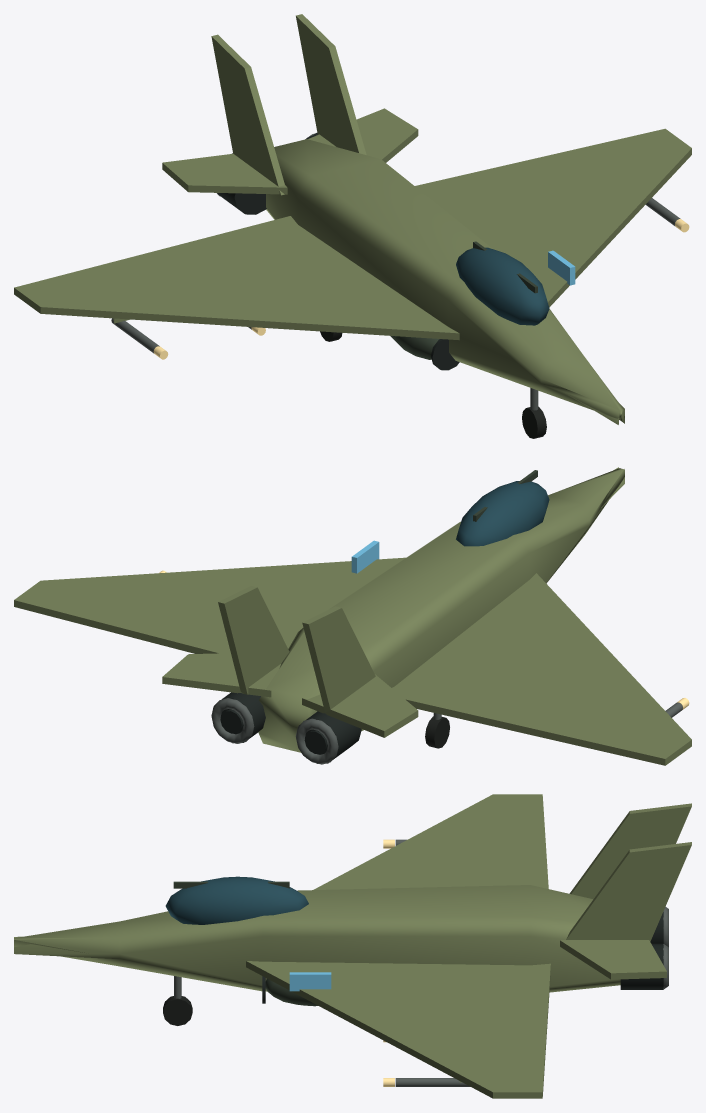
The model's file is attackAircraft.glb.
3 views of the same model, one above another, from view 1: azimuth 30°, elevation 25°; view 2: azimuth 150°, elevation 25°; view 3: azimuth 270°, elevation 25° (orthographic). The views are drawn at different scales.
Visible parts, largest first — view 1: armor, glass, dark, trim, steel, rubber; view 2: armor, glass, dark, steel, rubber, marking; view 3: armor, glass, steel, dark, trim, marking, rubber.
Boxes of the visible parts, x1,y1,x2,y2 form: armor: (14,14,691,424); glass: (456,247,549,325); dark: (217,133,459,370); trim: (390,241,537,359); steel: (111,133,680,353); rubber: (320,331,546,438); armor: (14,467,691,765); glass: (456,481,549,546); dark: (214,692,361,763); steel: (211,698,682,764); rubber: (425,716,449,748); marking: (351,540,379,573); armor: (14,794,691,1098); glass: (165,876,308,924); steel: (395,839,668,1086); dark: (262,912,663,1003); trim: (173,881,317,1006); marking: (289,972,331,991); rubber: (163,996,192,1025).
Size of the model in its own units: 8.5 by 2.64 by 8.17.
